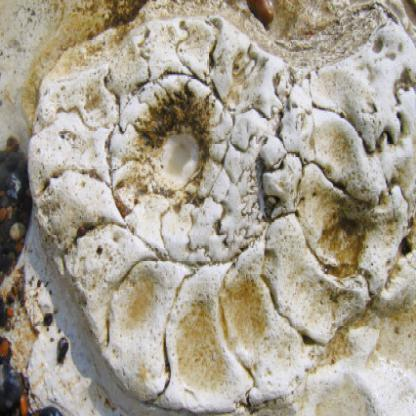Sedimentary_Chalk: (84, 247, 303, 395)
